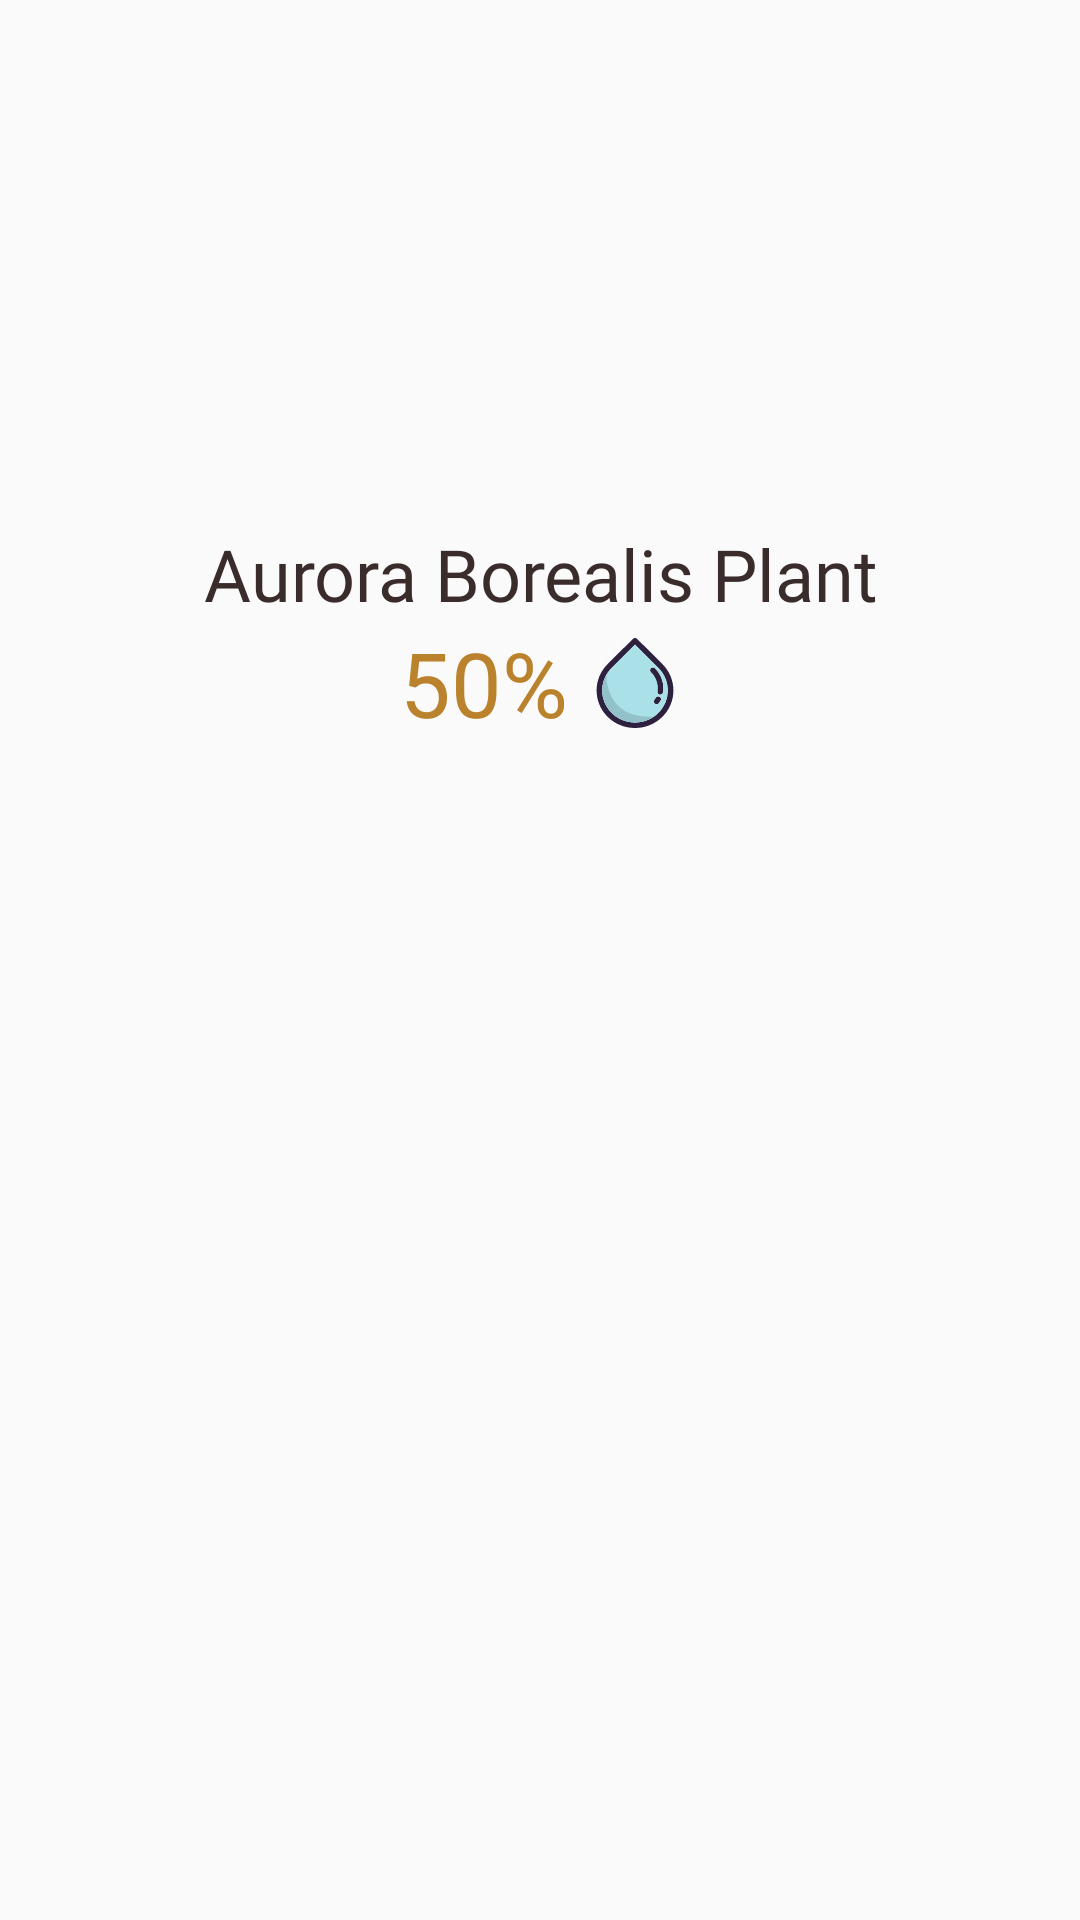

Icon bounding boxes for this 1080px×1920px phone screenshot, format (x1, y1, x2, y2):
water droplet: (596, 638, 674, 728)
